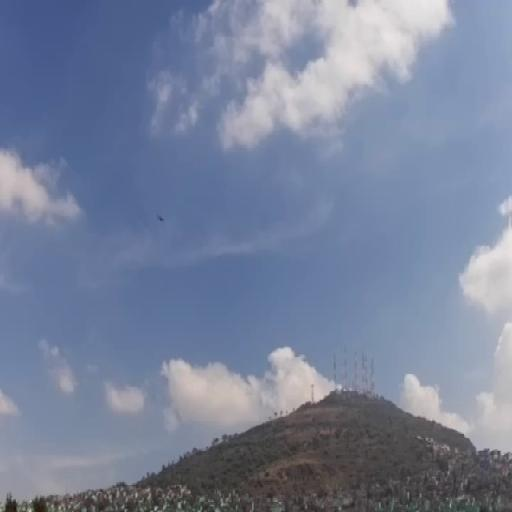drones: (157, 211, 166, 223)
